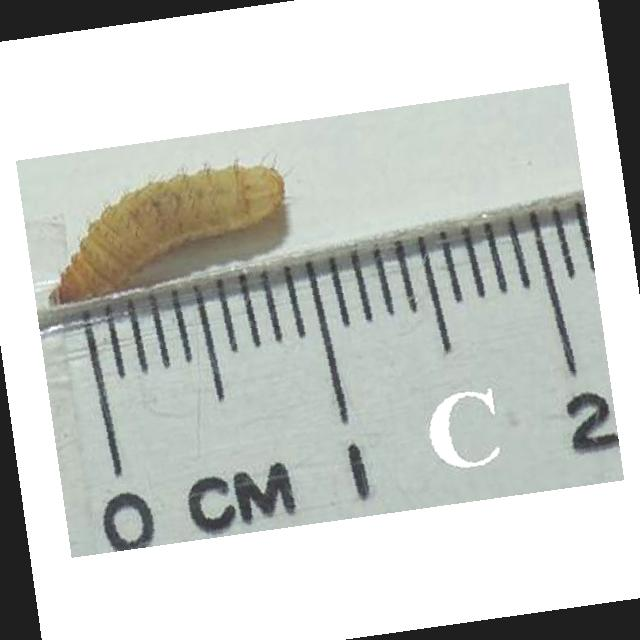Maggot: (48, 156, 291, 309)
